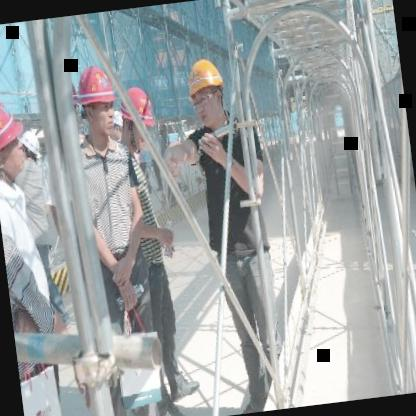helmet: (67, 56, 123, 146), (181, 49, 231, 132), (116, 84, 158, 147), (0, 89, 28, 172), (15, 126, 44, 167)
